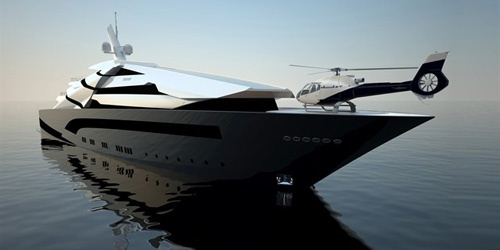airplane: (281, 42, 455, 108)
yacht: (38, 18, 455, 202)
